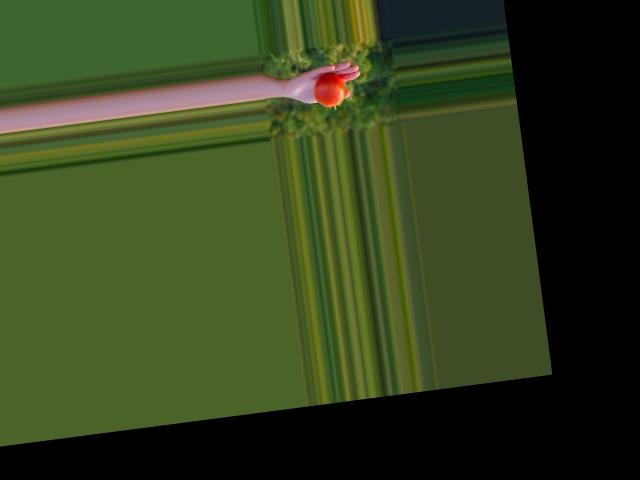tomato: (312, 70, 347, 107)
